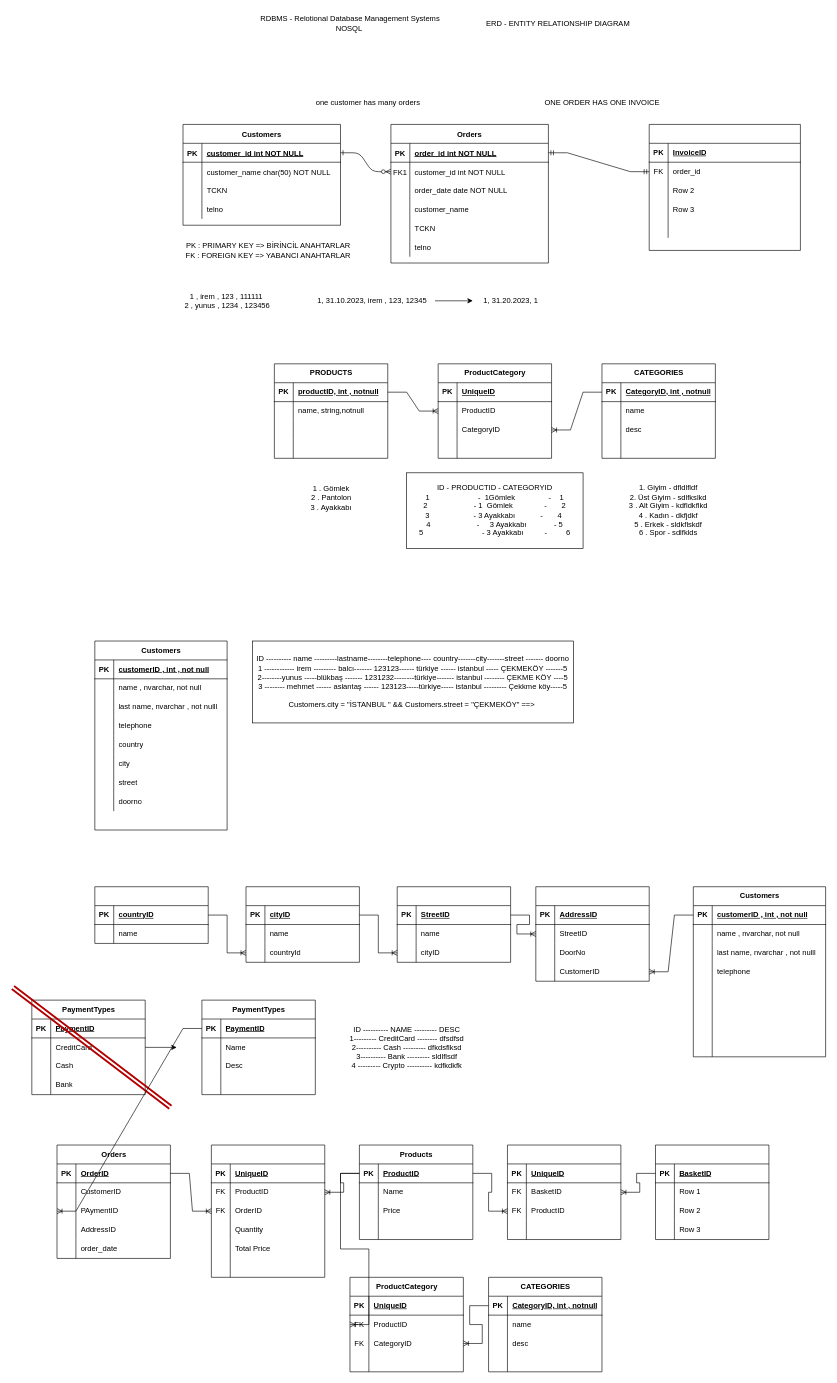
The diagram is 837 pixels wide and 1383 high, and some of its shapes have lost their labels. The box of each missing label's shape, as (x1, y1, x2, y2) in pixels:
ADDRESSES: (535, 886, 649, 981)
Baskets: (655, 1144, 769, 1240)
Cities: (245, 886, 359, 962)
Countries: (94, 886, 208, 943)
Invoices: (649, 124, 800, 250)
OrderProduct: (211, 1144, 325, 1277)
ProductBasket: (507, 1144, 621, 1240)
Streets: (397, 886, 511, 962)
